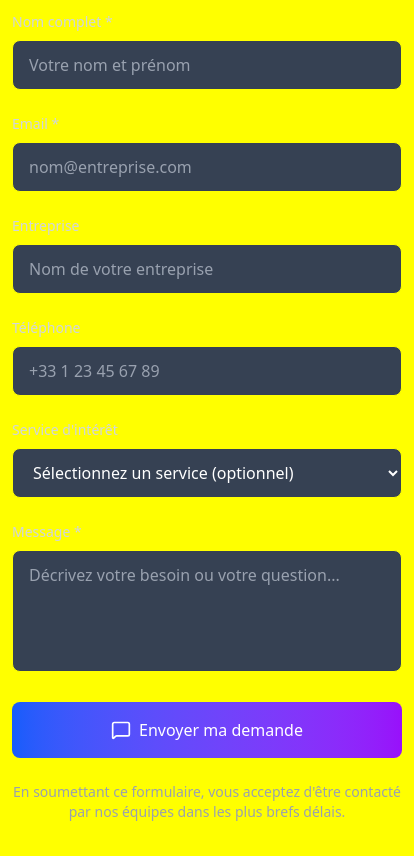
ContactForm - Test 6: Gestion d'erreur API › API Error Responses › handles message too short error
The width and height of the screenshot is (414, 856).
Type "John Doe" into the field labelled "Nom complet *" at (207, 65), box x1=12 y1=40 x2=402 y2=90
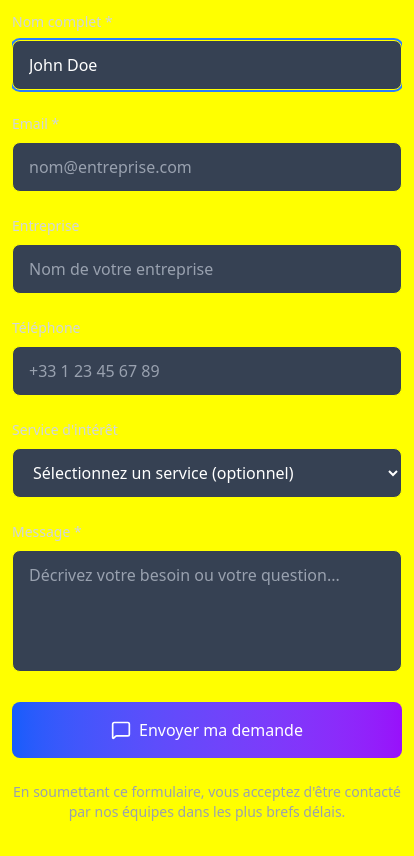
Type "john@example.com" into the field labelled "Email *" at (207, 167), box x1=12 y1=142 x2=402 y2=192
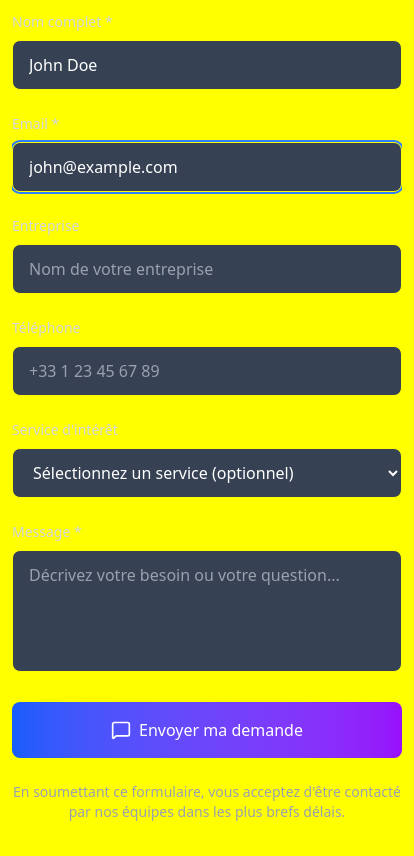
Type "Court" into the text box labelled "Message *" at (207, 611), box x1=12 y1=550 x2=402 y2=672
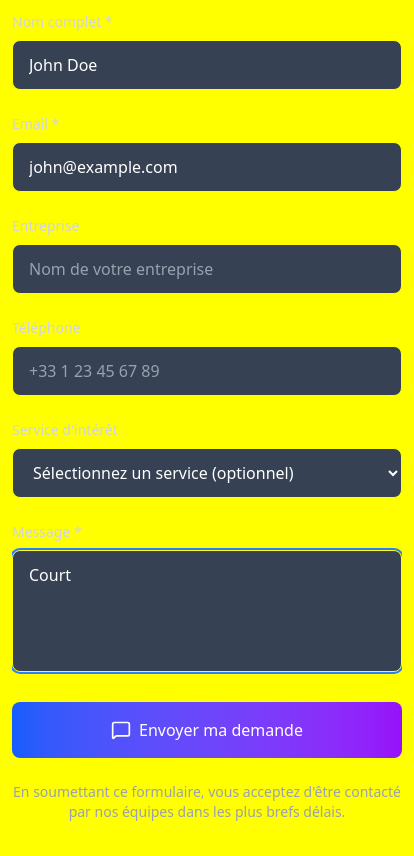
Click the button "Envoyer ma demande" at (207, 730), box x1=12 y1=702 x2=402 y2=758
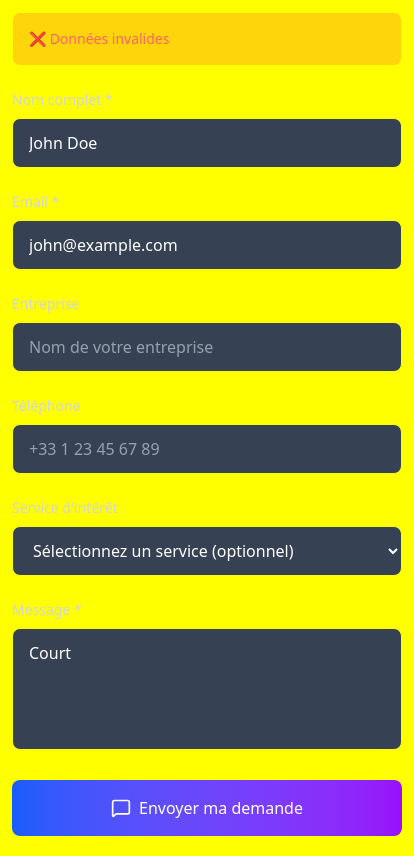
Expected: the text "❌ Données invalides" is shown, x1=12 y1=12 x2=402 y2=66
